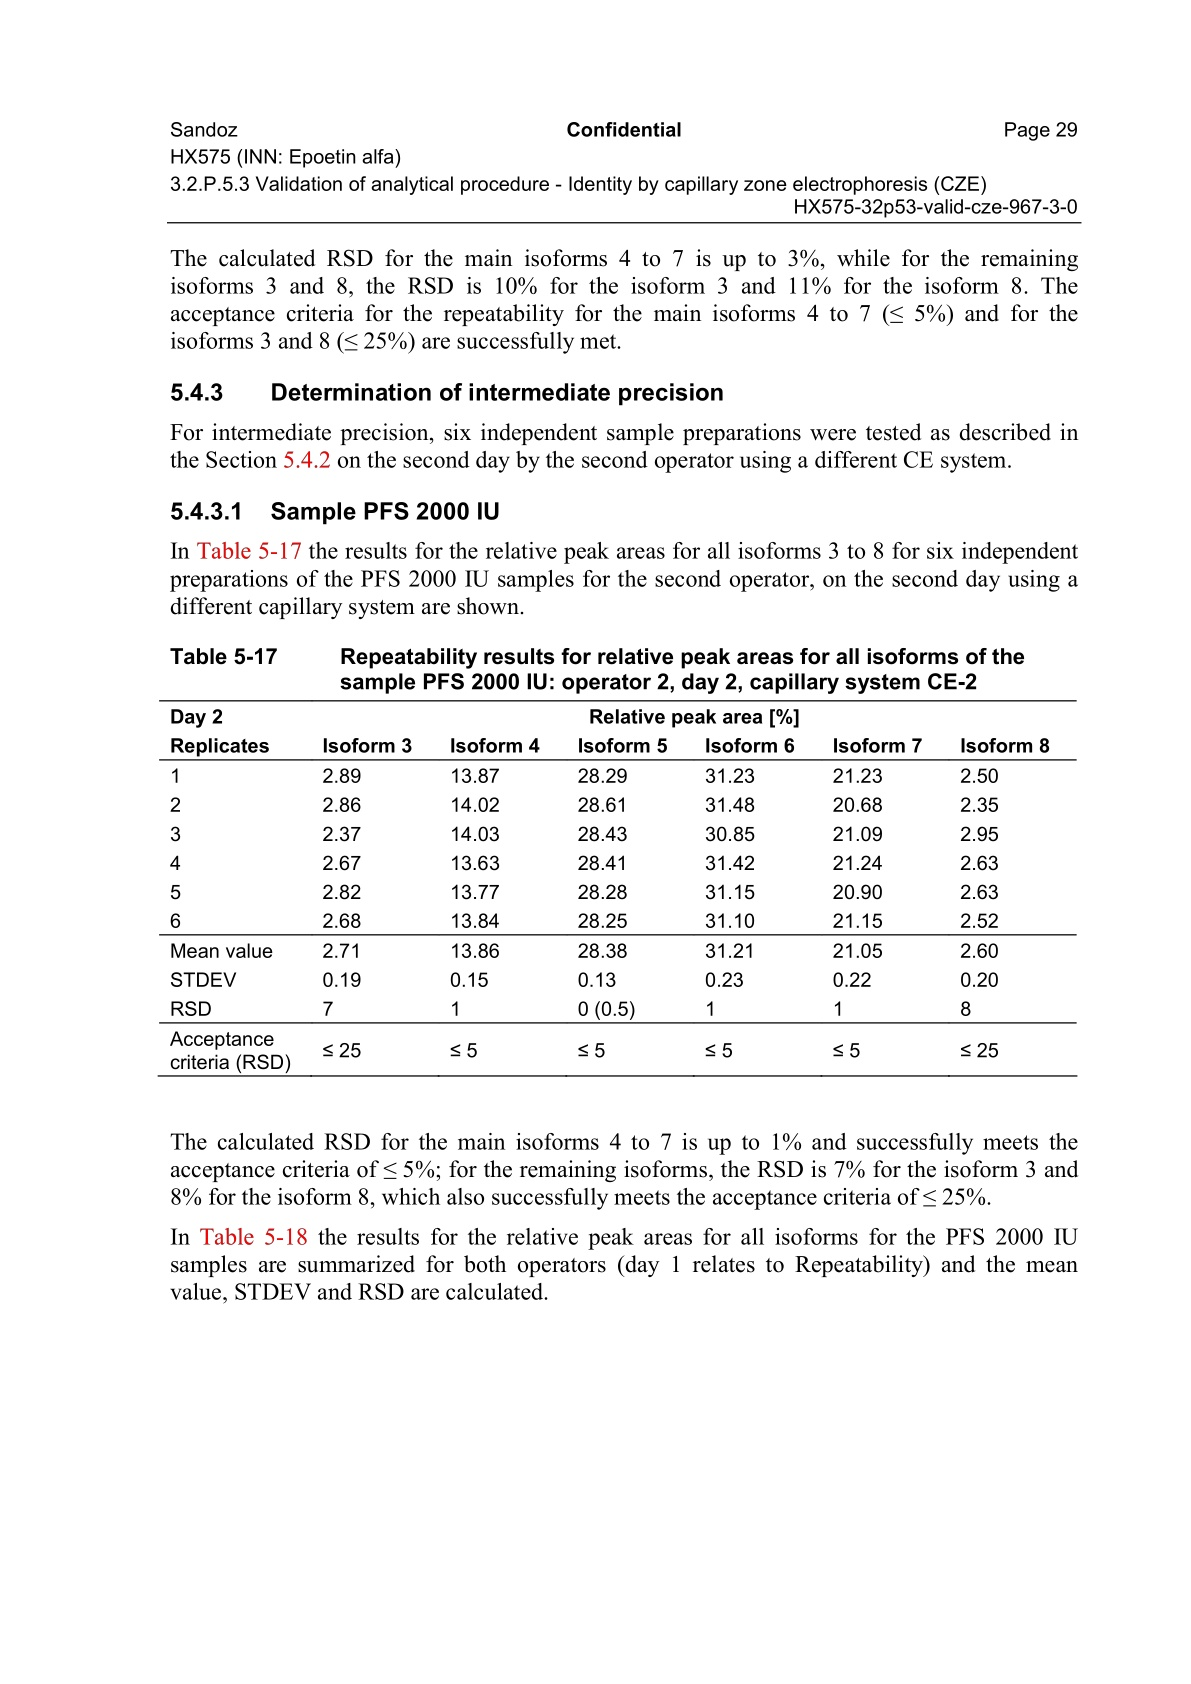partial_lined_merged_cells: (156, 701, 1089, 1078)
